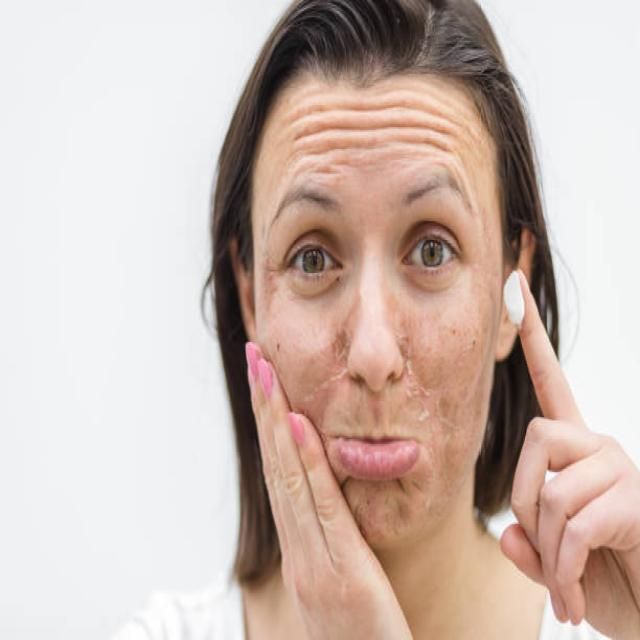dry: (402, 298, 564, 490), (292, 92, 460, 202), (252, 300, 444, 386)
